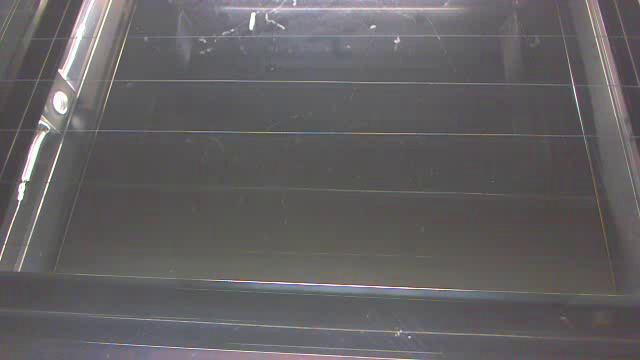alpha: (237, 7, 267, 37)
